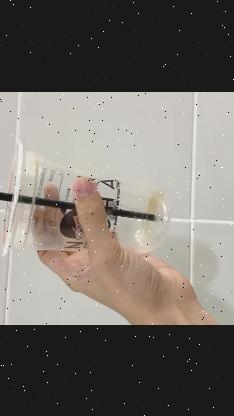Others: (0, 139, 174, 255)
